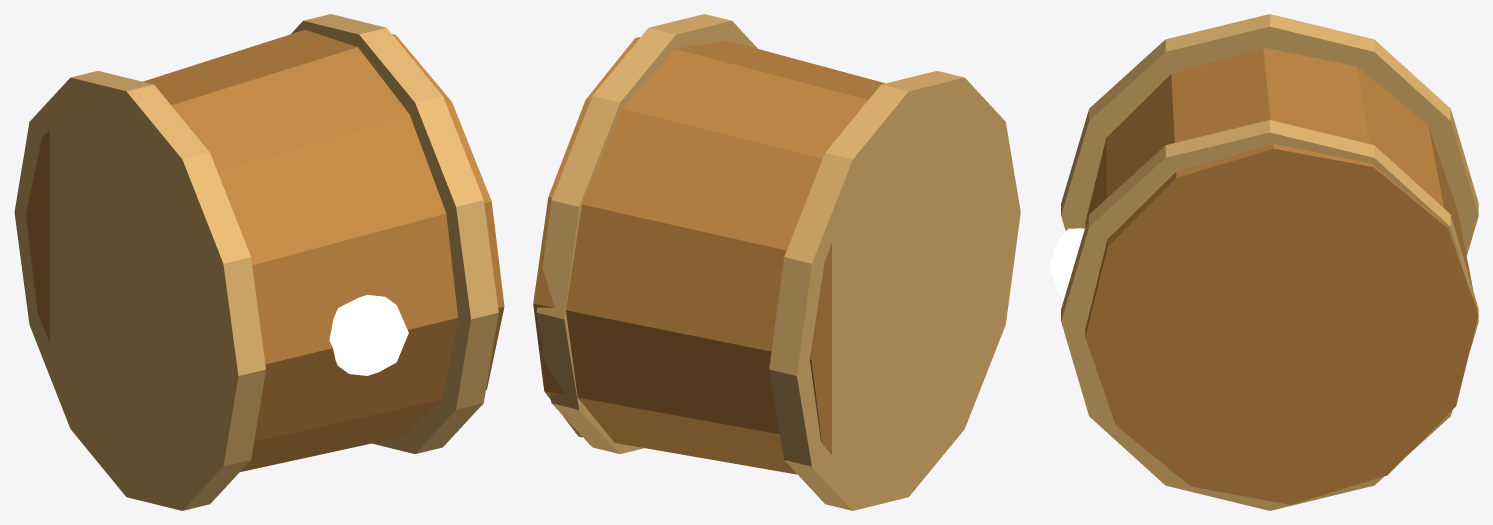
The model's file is sky_guardian_bracer_r.glb.
The picture shows the model from 3 angles, left to right: view 1: azimuth 30°, elevation 25°; view 2: azimuth 150°, elevation 25°; view 3: azimuth 270°, elevation 25°; orthographic projection. The views are drawn at different scales.
Parts seen in each view (by area): view 1: sky_guardian_bracer_r; view 2: sky_guardian_bracer_r; view 3: sky_guardian_bracer_r.
Boxes of the visible parts, x1,y1,x2,y2 form: sky_guardian_bracer_r: [14, 14, 504, 510]; sky_guardian_bracer_r: [533, 14, 1020, 510]; sky_guardian_bracer_r: [1049, 14, 1478, 510].
Size of the model in its own units: 0.2533 by 0.35 by 0.36.
